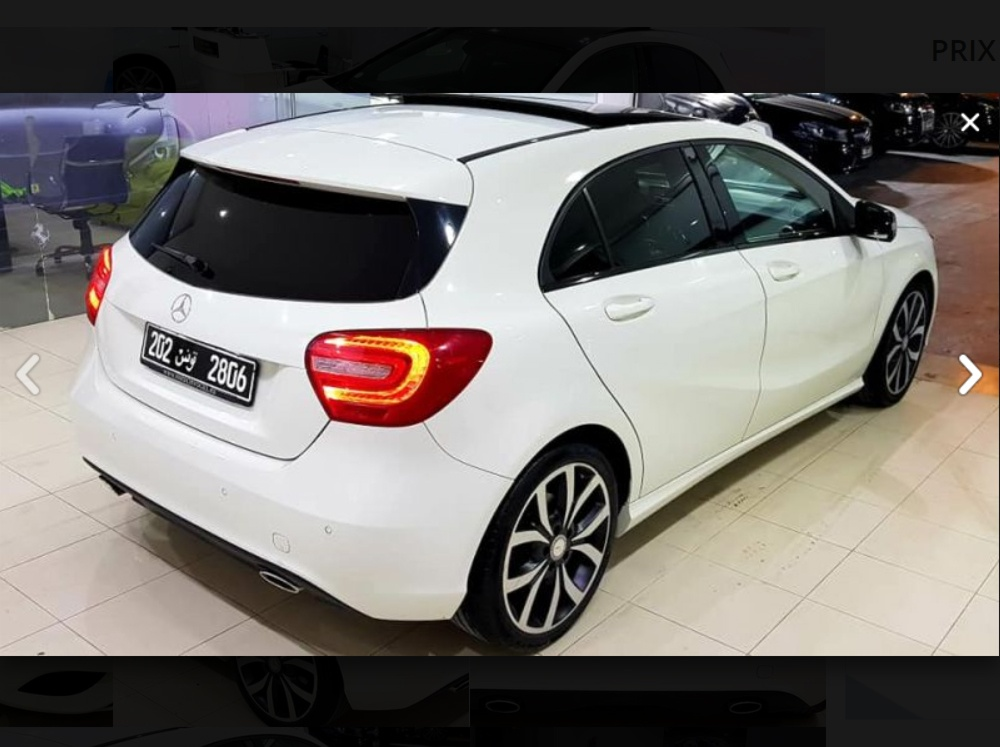LP: (138, 322, 258, 410)
